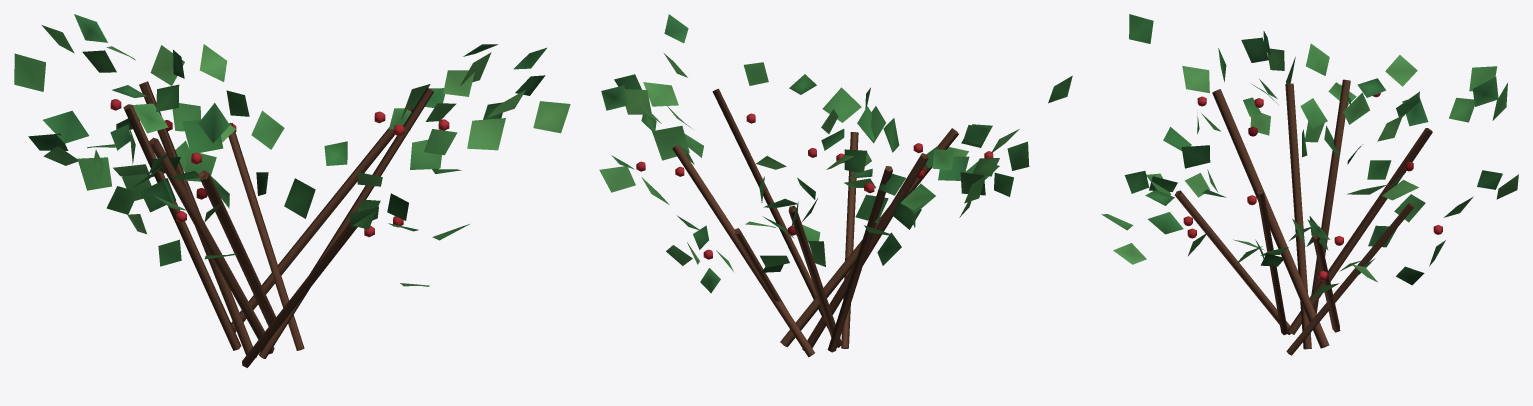
File: standard-lod1.glb
3 views of the same model, side by side, from view 1: azimuth 30°, elevation 25°; view 2: azimuth 150°, elevation 25°; view 3: azimuth 270°, elevation 25° (orthographic). The views are drawn at different scales.
Visible parts, largest first — view 1: redberry-individual-ovate-leaves, redberry-buried-stems-ground-blend-and-fruit; view 2: redberry-individual-ovate-leaves, redberry-buried-stems-ground-blend-and-fruit; view 3: redberry-individual-ovate-leaves, redberry-buried-stems-ground-blend-and-fruit.
Part boxes in pixels (left/top/right/bottom): redberry-individual-ovate-leaves: left=14, top=14, right=570, bottom=286; redberry-buried-stems-ground-blend-and-fruit: left=110, top=81, right=449, bottom=367; redberry-individual-ovate-leaves: left=599, top=14, right=1072, bottom=293; redberry-buried-stems-ground-blend-and-fruit: left=636, top=88, right=993, bottom=357; redberry-individual-ovate-leaves: left=1101, top=14, right=1518, bottom=299; redberry-buried-stems-ground-blend-and-fruit: left=1174, top=79, right=1442, bottom=355.
Bounding box in the file's own units: 2.54 × 1.55 × 2.32.
